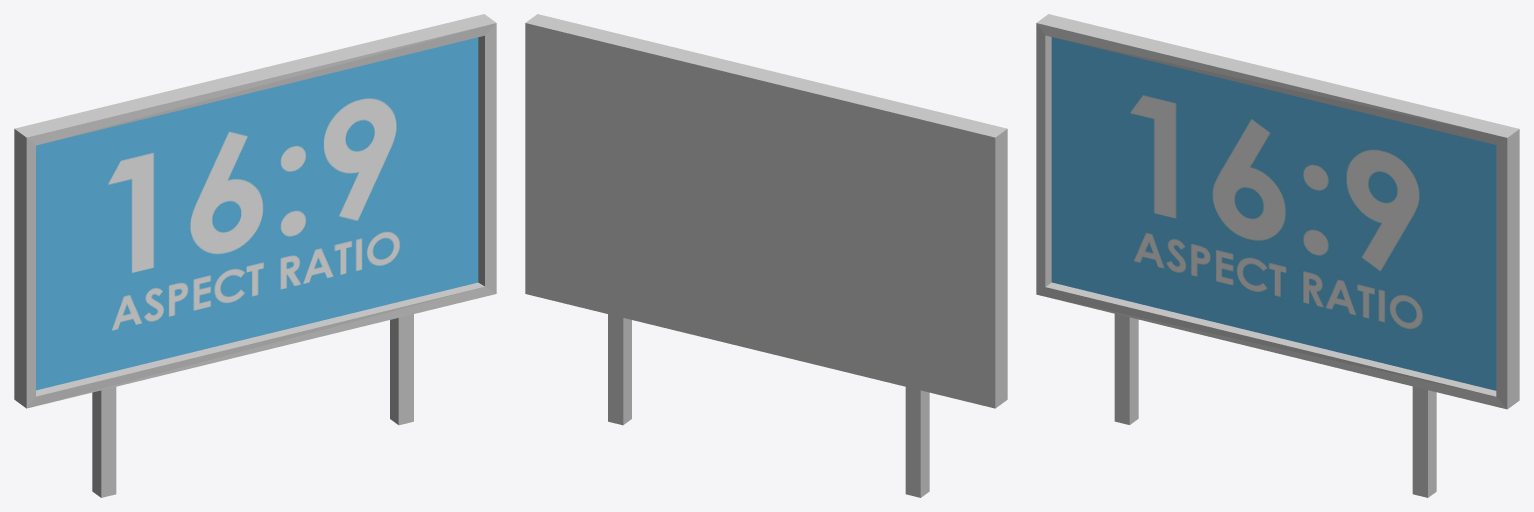
The model's file is billboard.obj.
3 renders of one model, left to right at view 1: azimuth 30°, elevation 25°; view 2: azimuth 150°, elevation 25°; view 3: azimuth 330°, elevation 25°, orthographic.
Parts seen in each view (by area): view 1: Board_16-9_Board_0, Frame_16-9_02_-_Default_0; view 2: Frame_16-9_02_-_Default_0; view 3: Board_16-9_Board_0, Frame_16-9_02_-_Default_0.
Boxes of the visible parts, left/top/right/bottom form: Board_16-9_Board_0: left=36, top=37, right=478, bottom=390; Frame_16-9_02_-_Default_0: left=14, top=14, right=496, bottom=497; Frame_16-9_02_-_Default_0: left=525, top=14, right=1007, bottom=497; Board_16-9_Board_0: left=1051, top=37, right=1496, bottom=390; Frame_16-9_02_-_Default_0: left=1036, top=14, right=1519, bottom=497.
Bounding box in the file's own units: 15.77 × 12.19 × 0.723.
